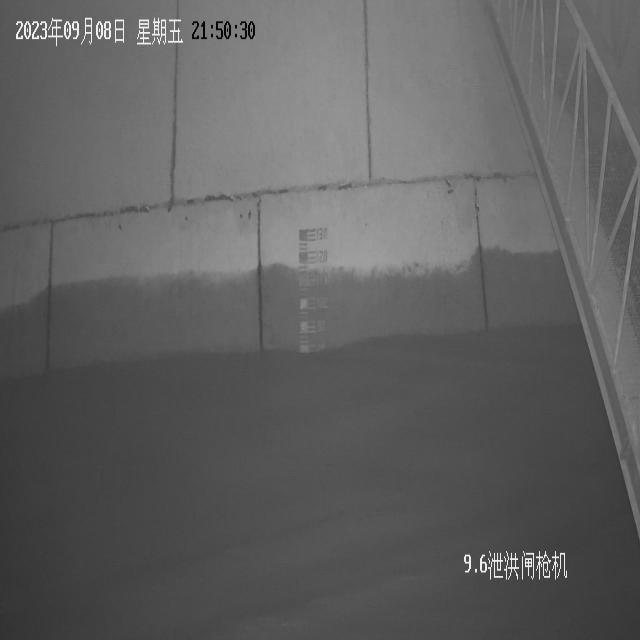ruler: (296, 222, 330, 351)
value: (316, 271, 330, 288), (315, 226, 328, 244), (316, 248, 328, 264), (317, 295, 329, 309)
